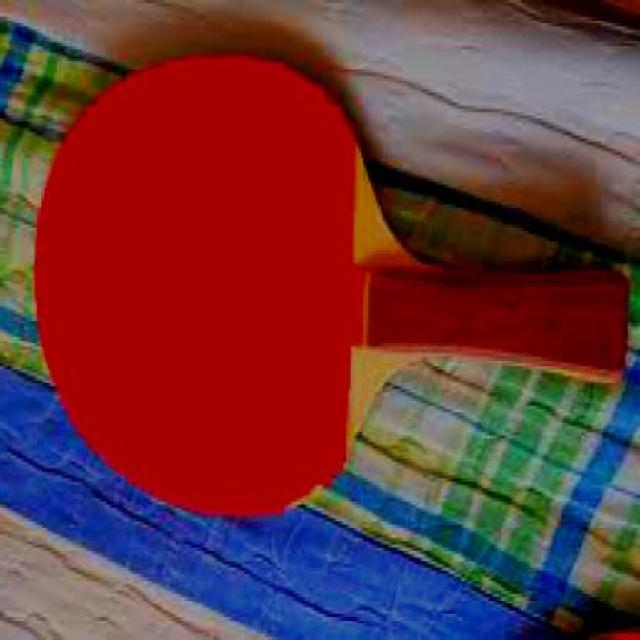table_tennis_racket: (32, 52, 623, 522)
